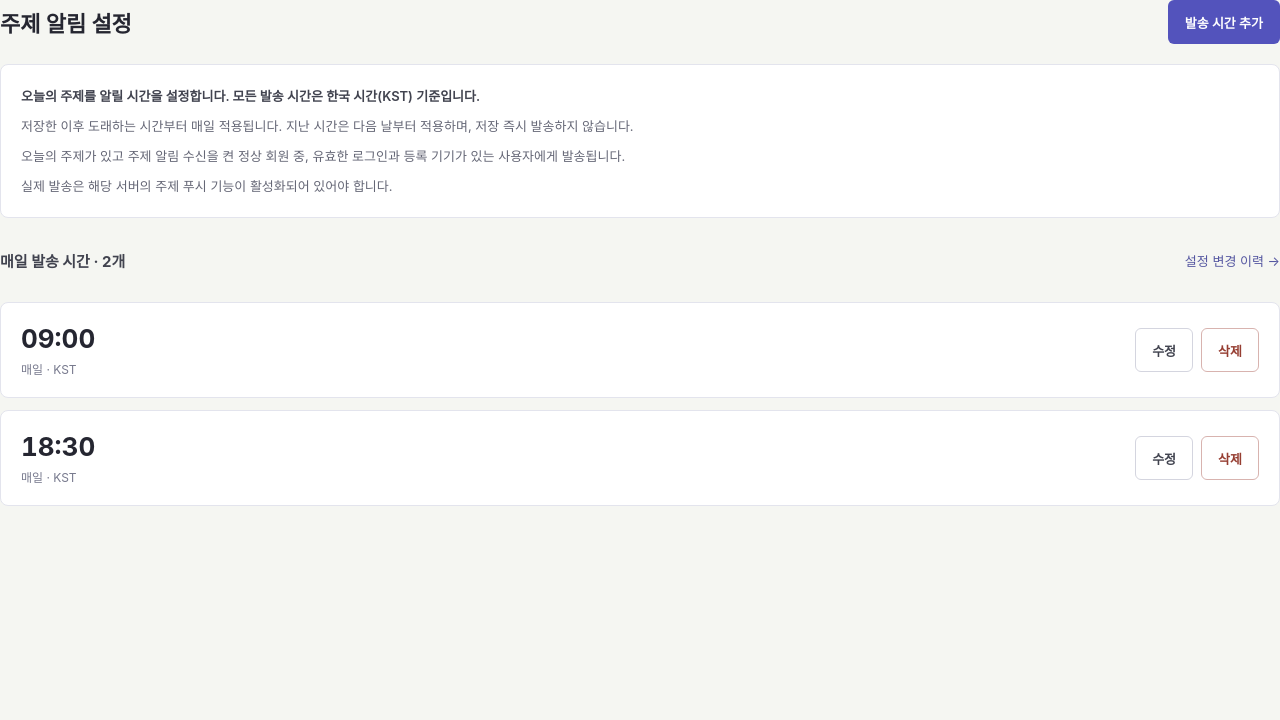
Test: topic push schedules › keeps duplicate input and its server error visible
Expected: the text "09:00" is shown, [21,323,95,354]
Click the button "발송 시간 추가": (1224, 22) [1168,0,1279,44]
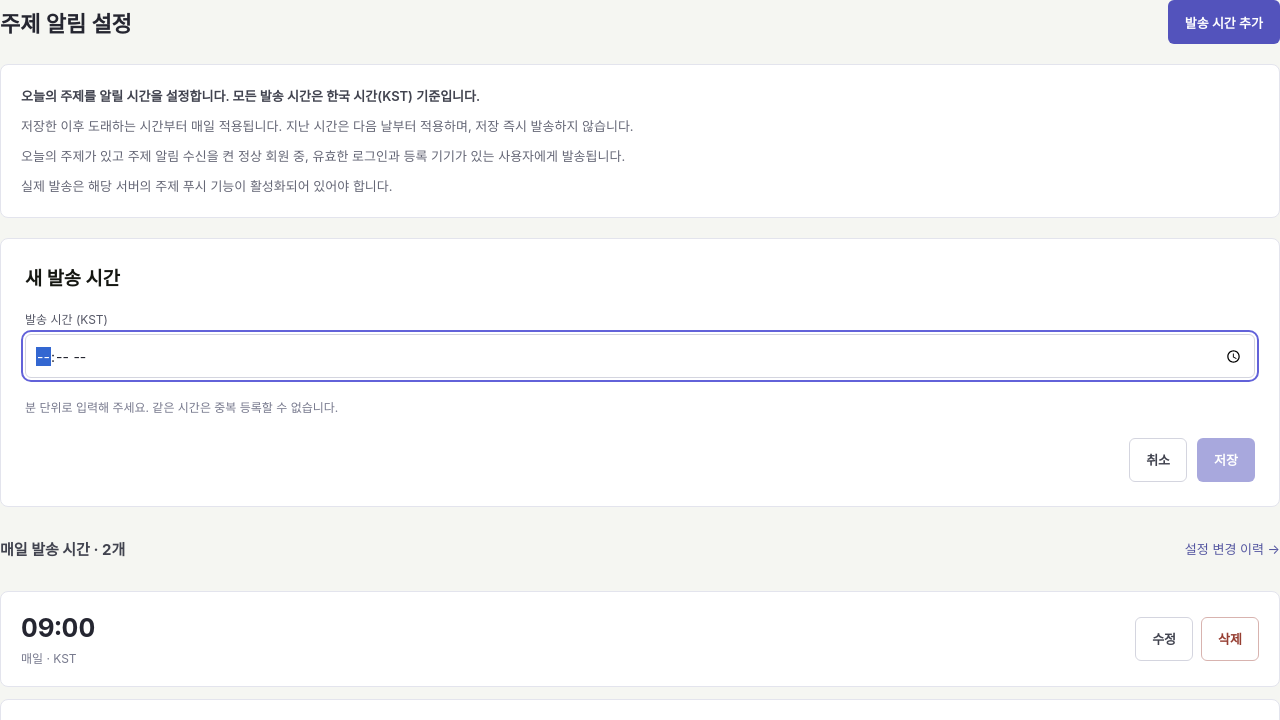
In the time field labelled "발송 시간 (KST)": (640, 356) [25,334,1255,378], type "09:00"
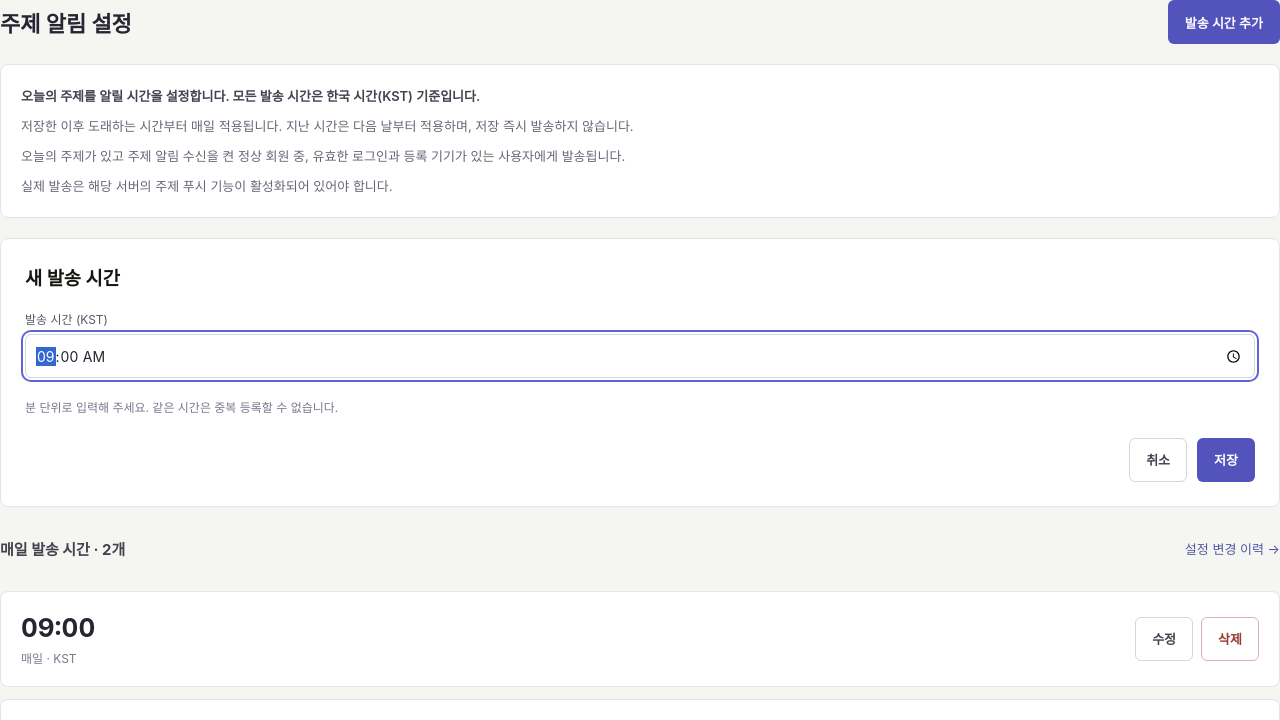
Click the button "저장": (1226, 460) [1197,438,1255,482]
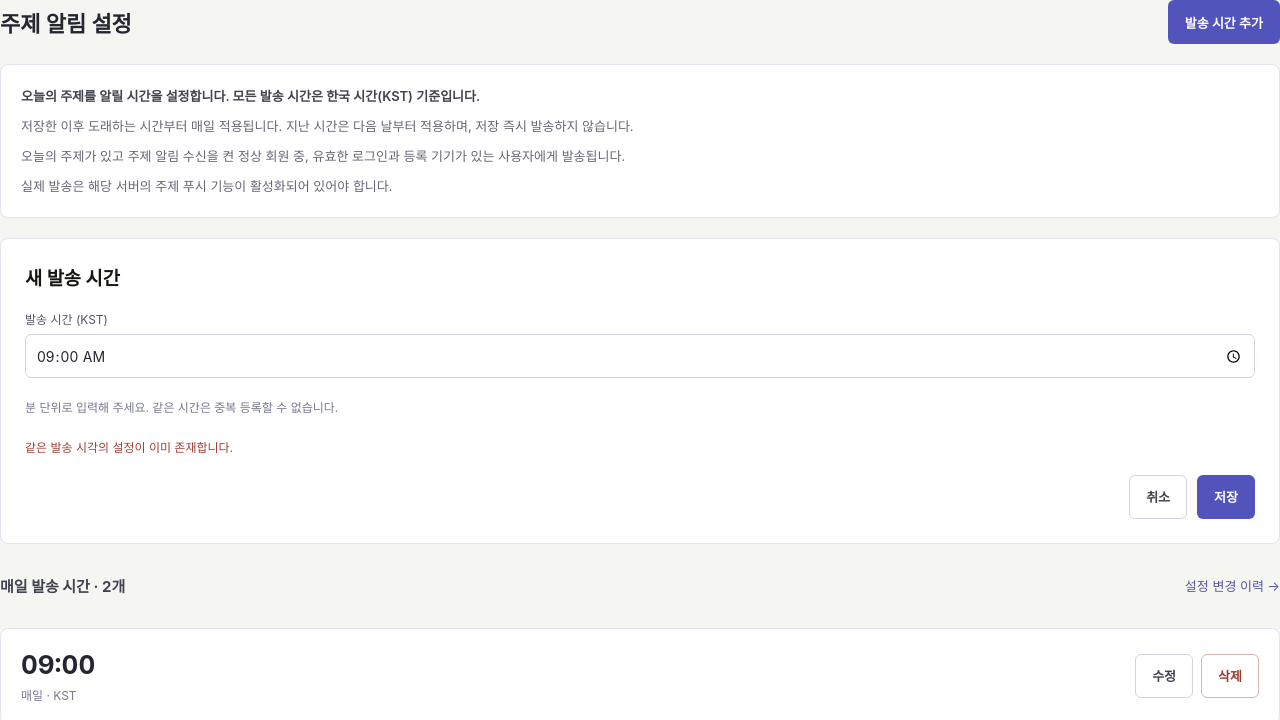
Now the message shows "같은 발송 시각", box [25,440,233,455]
